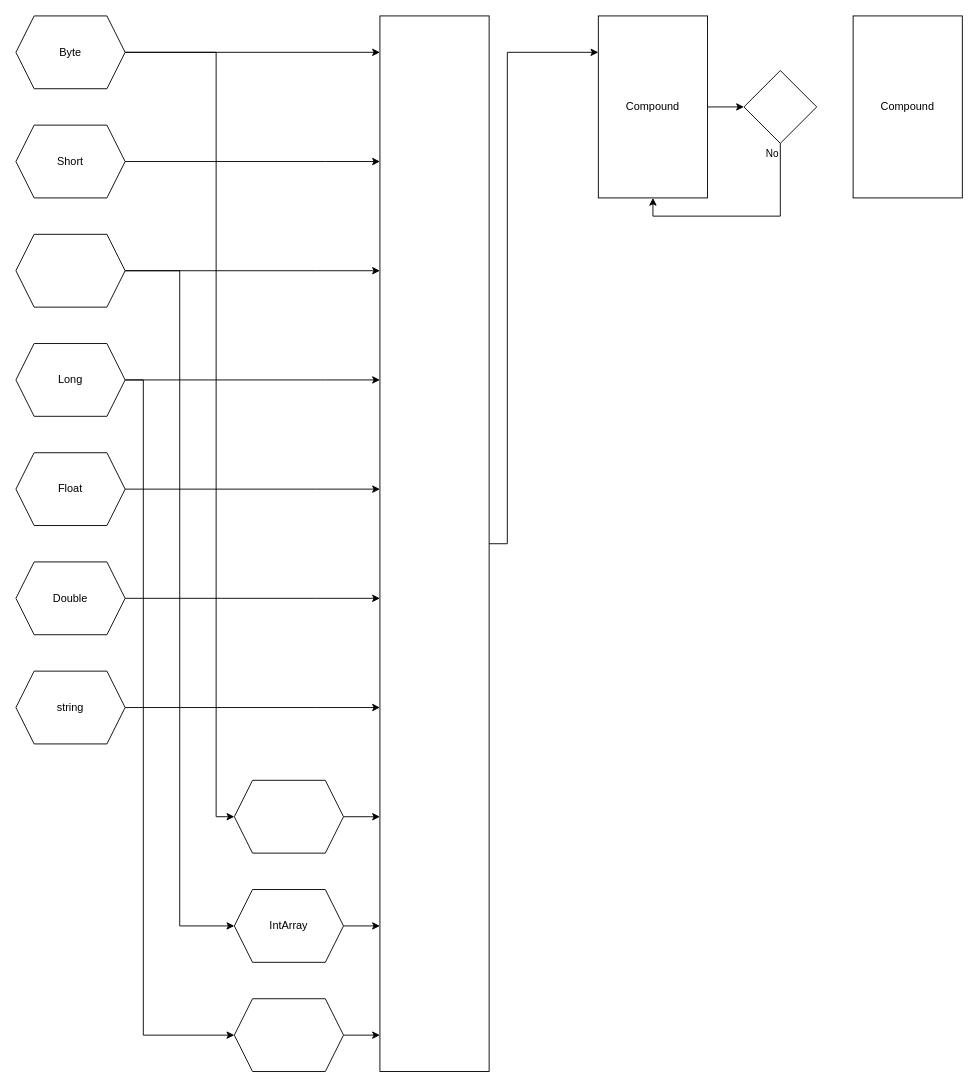
The diagram is 978 pixels wide and 1087 high, and some of its shapes have lost their labels. Here are the shapes that lost their labels. From the top down, the box of each, then its label:
(743, 70, 817, 143): key=''
(15, 233, 125, 307): Int
(379, 15, 489, 1072): PrimitiveType
(233, 779, 344, 853): ByteArray
(233, 998, 344, 1072): LongArray
